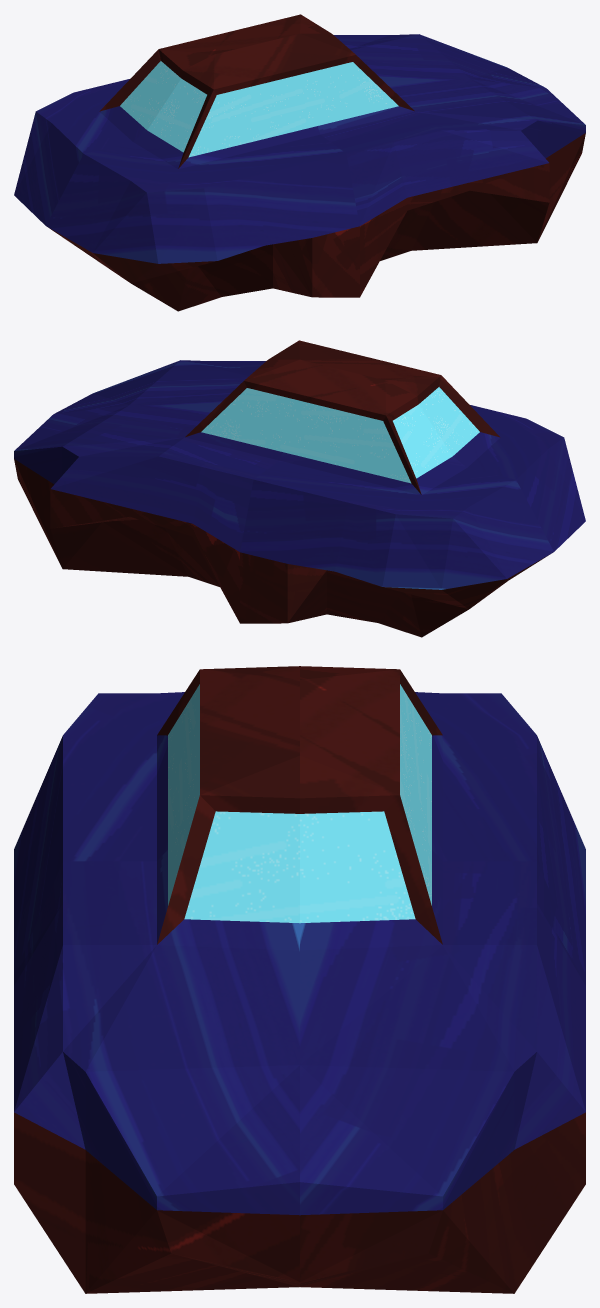
The model's file is car_body_1.fbx.
3 views of the same model, one above another, from view 1: azimuth 30°, elevation 25°; view 2: azimuth 150°, elevation 25°; view 3: azimuth 270°, elevation 25° (orthographic). The views are drawn at different scales.
Parts seen in each view (by area): view 1: Vehicle Main; view 2: Vehicle Main; view 3: Vehicle Main.
Part boxes in pixels (x1,y1,x2,y2): Vehicle Main: (14,14,585,311); Vehicle Main: (14,340,585,637); Vehicle Main: (14,666,585,1293).
Bounding box in the file's own units: 667 × 264 × 360.
Materials: 2 (2 with a texture image).
